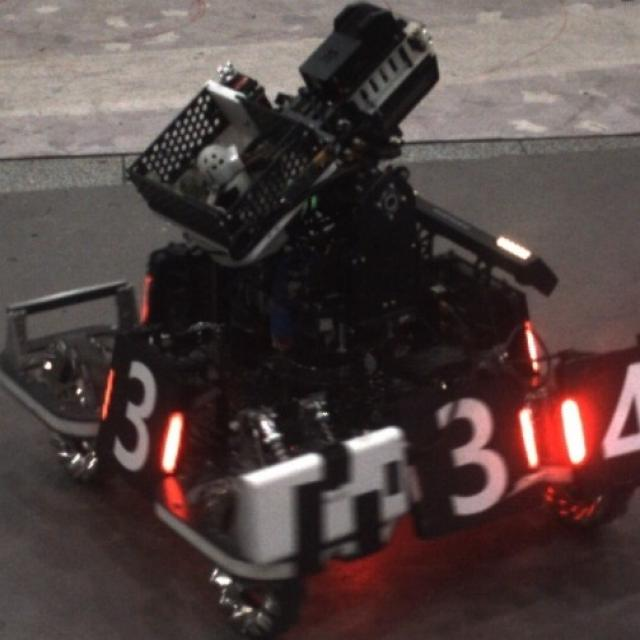R3: (98, 358, 183, 474)
